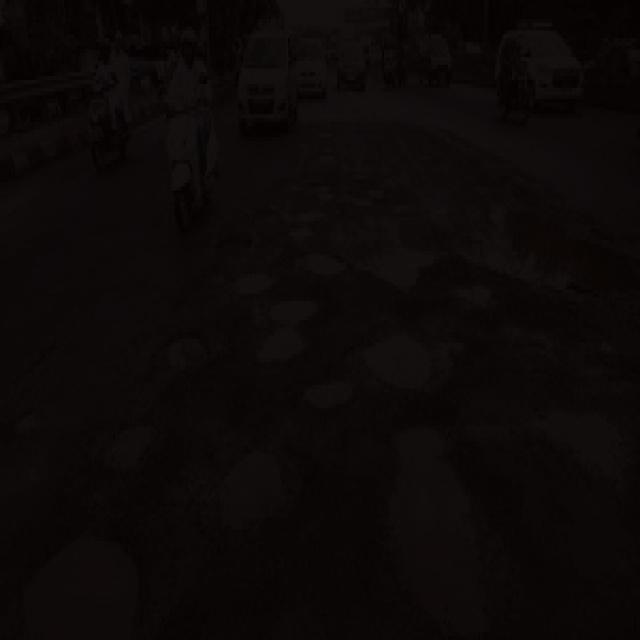Pothole: (374, 412, 520, 640), (466, 180, 640, 309), (12, 524, 175, 640), (187, 427, 316, 544), (521, 388, 640, 488), (354, 316, 484, 390), (256, 291, 328, 371), (363, 238, 455, 298), (265, 176, 339, 249), (90, 414, 163, 486), (152, 325, 212, 381), (299, 374, 358, 412), (230, 266, 286, 302), (295, 254, 349, 275), (315, 150, 348, 175), (320, 127, 336, 137)
